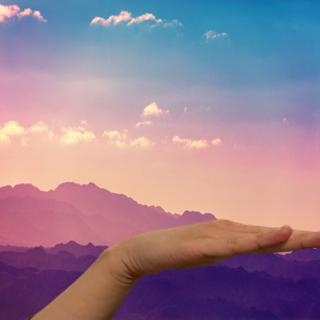WAIT: (114, 212, 320, 279)
